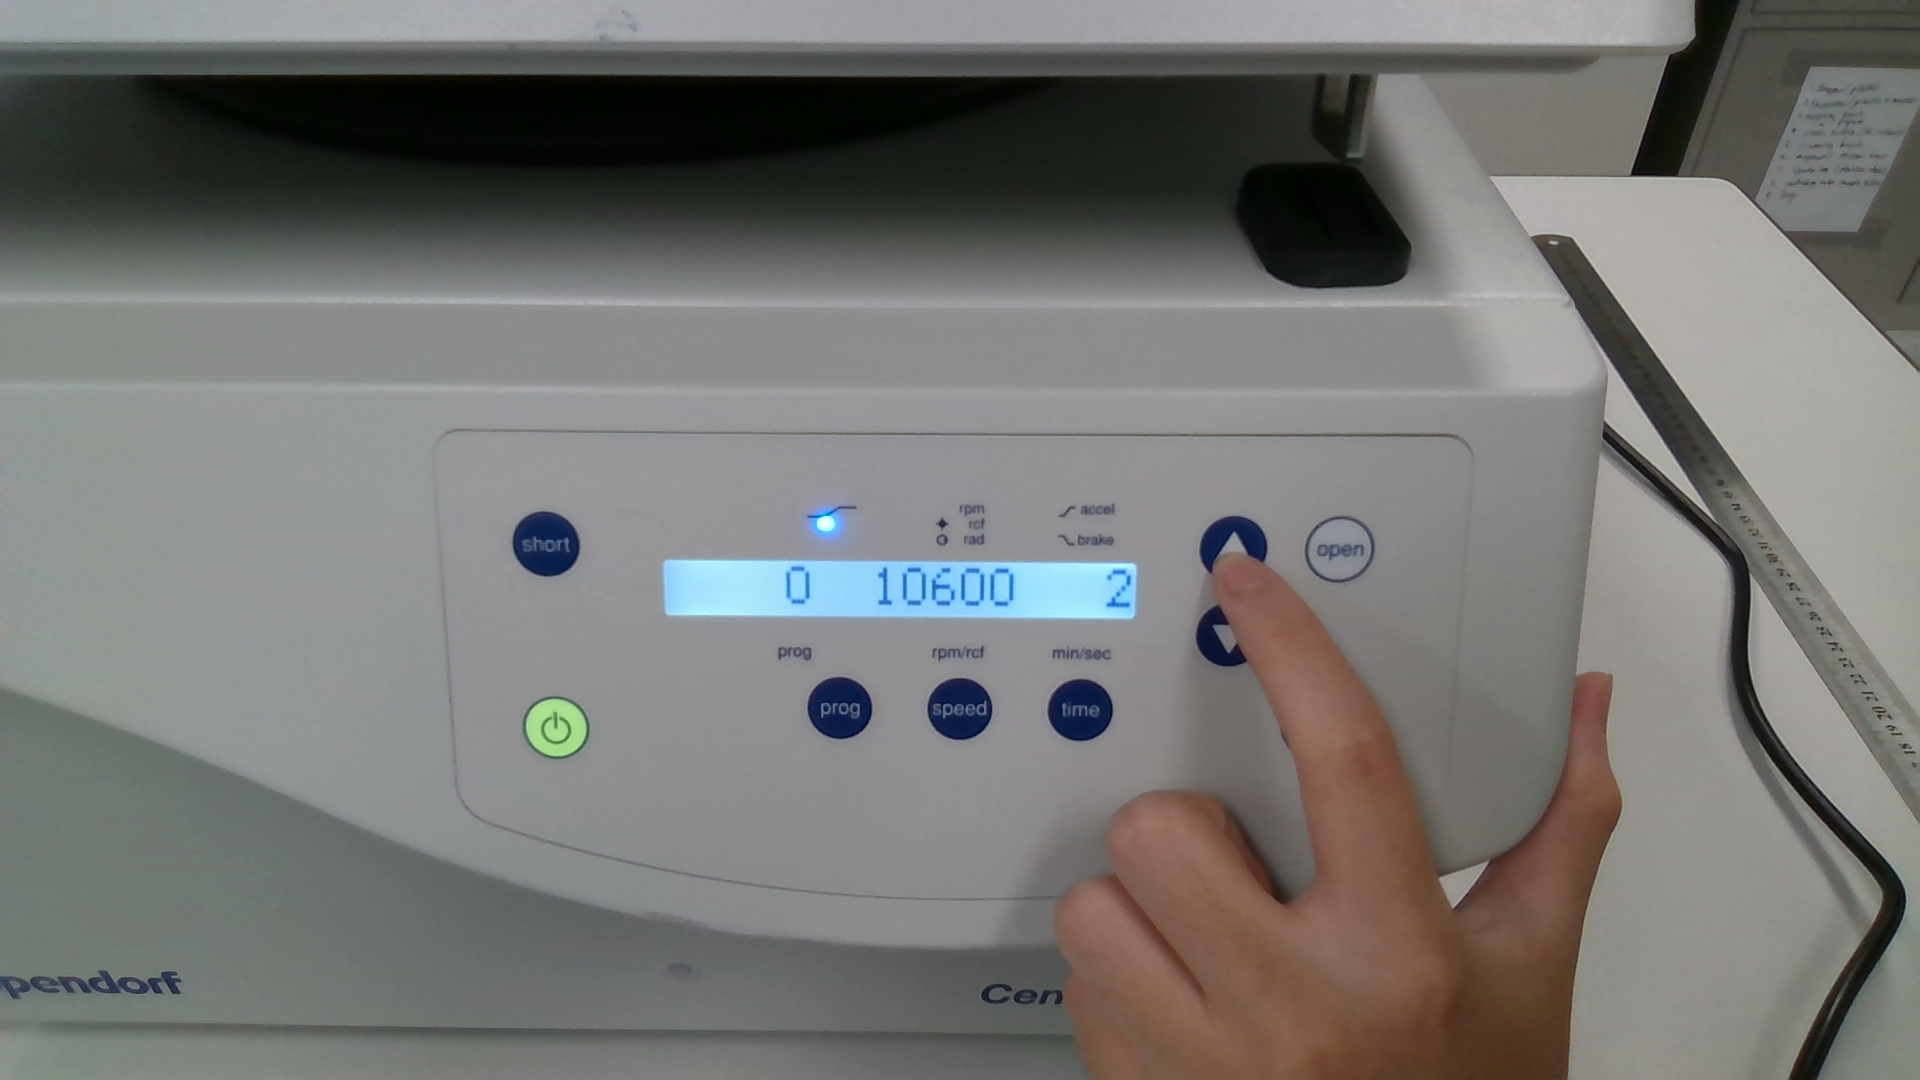0: (786, 566, 811, 605), (902, 567, 927, 607), (960, 568, 985, 607), (989, 568, 1014, 607)
1: (876, 566, 894, 607)
2: (1106, 568, 1131, 608)
6: (931, 567, 956, 607)
open_off: (1304, 516, 1375, 584)
power_on: (522, 696, 589, 760)
